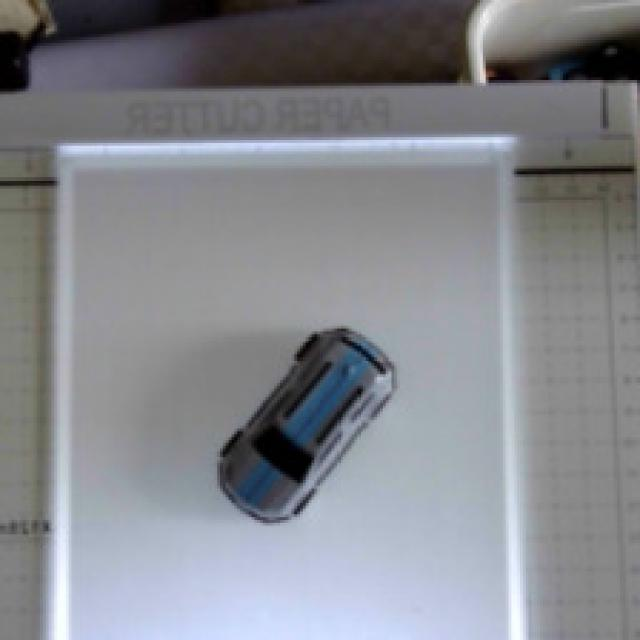Grey Car: (191, 295, 422, 540)
